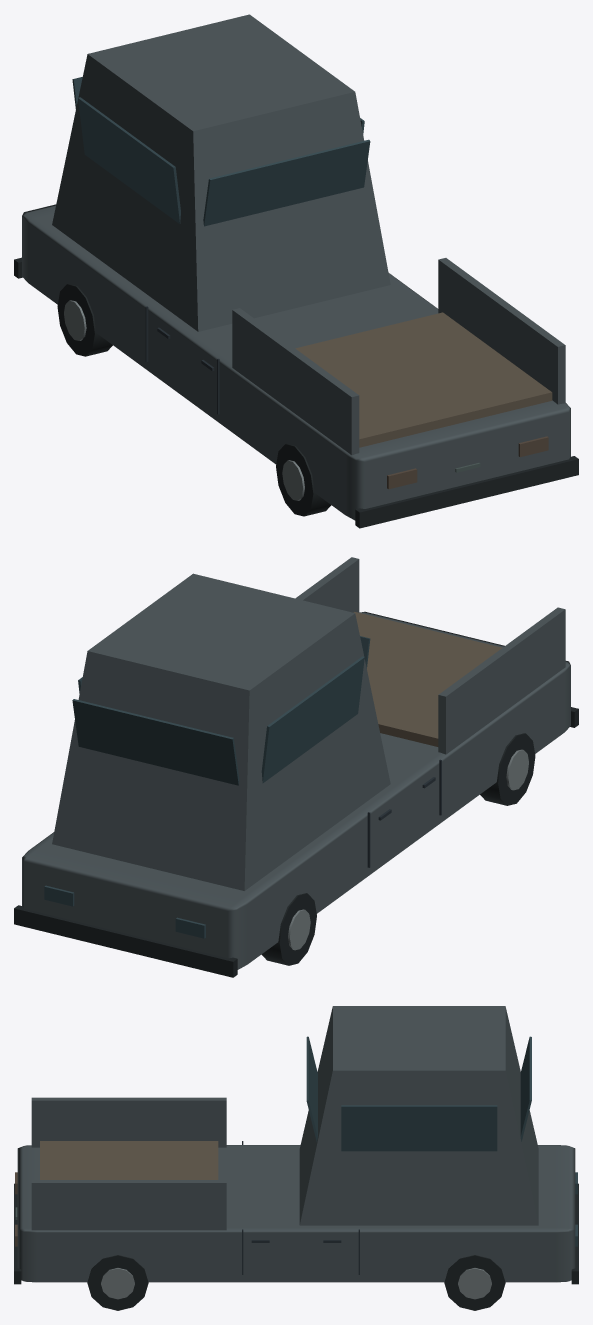
File: small-truck-3.glb
3 renders of one model, top to bottom at view 1: azimuth 30°, elevation 25°; view 2: azimuth 150°, elevation 25°; view 3: azimuth 270°, elevation 25°, orthographic. The views are drawn at different scales.
Parts seen in each view (by area): view 1: small-truck/2/KR-230-3; view 2: small-truck/2/KR-230-3; view 3: small-truck/2/KR-230-3.
Part boxes in pixels (x1,y1,x2,y2): small-truck/2/KR-230-3: [14, 14, 578, 528]; small-truck/2/KR-230-3: [14, 557, 578, 977]; small-truck/2/KR-230-3: [14, 1006, 578, 1310].
Size of the model in its own units: 2.37 by 2.8 by 6.28.
